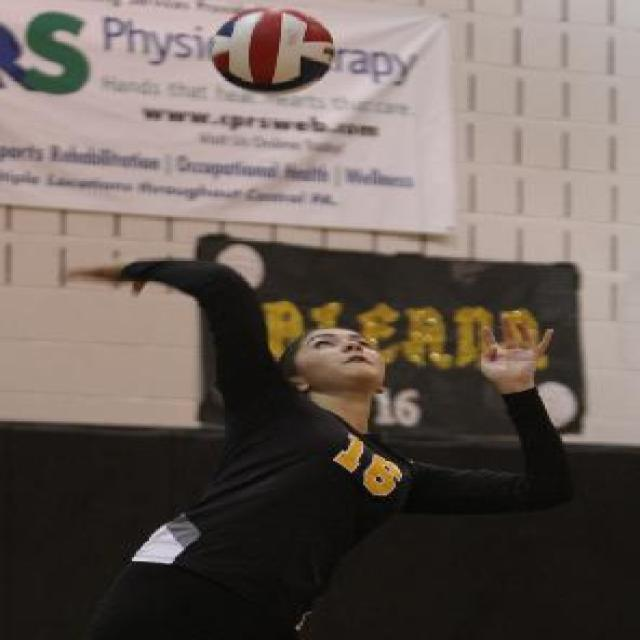volleyball: (210, 8, 334, 96)
